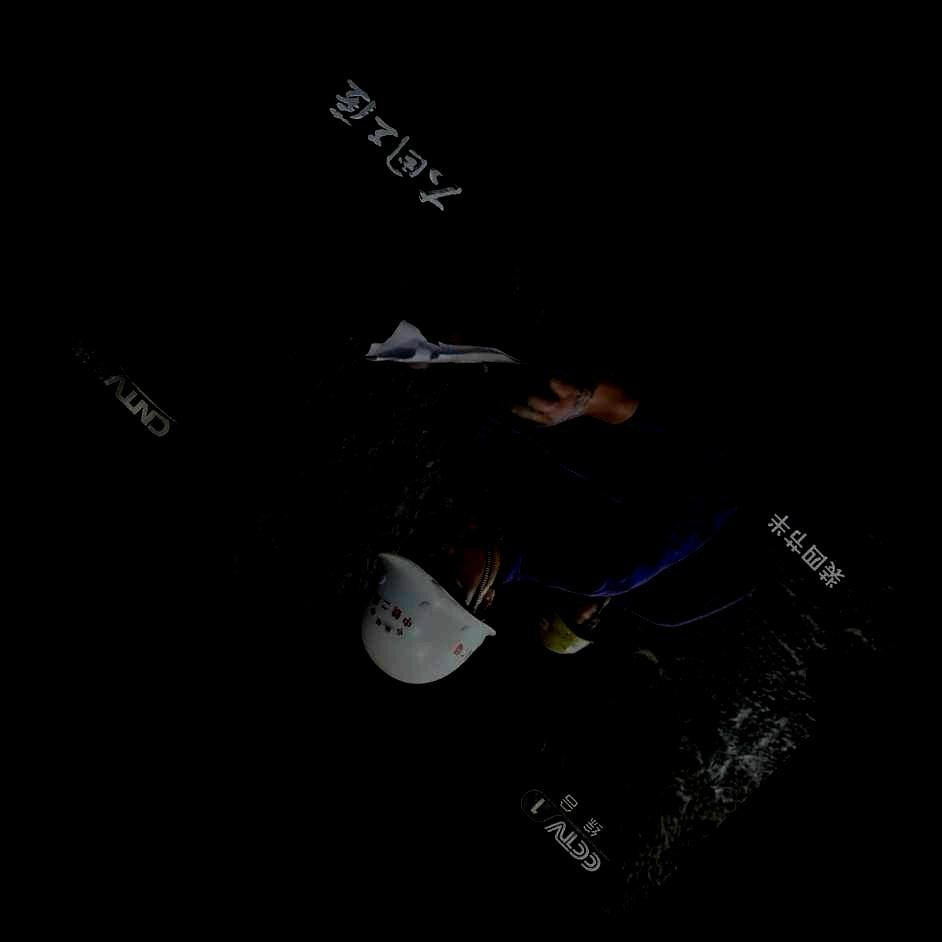helmet: (361, 517, 502, 685), (534, 589, 610, 654)
